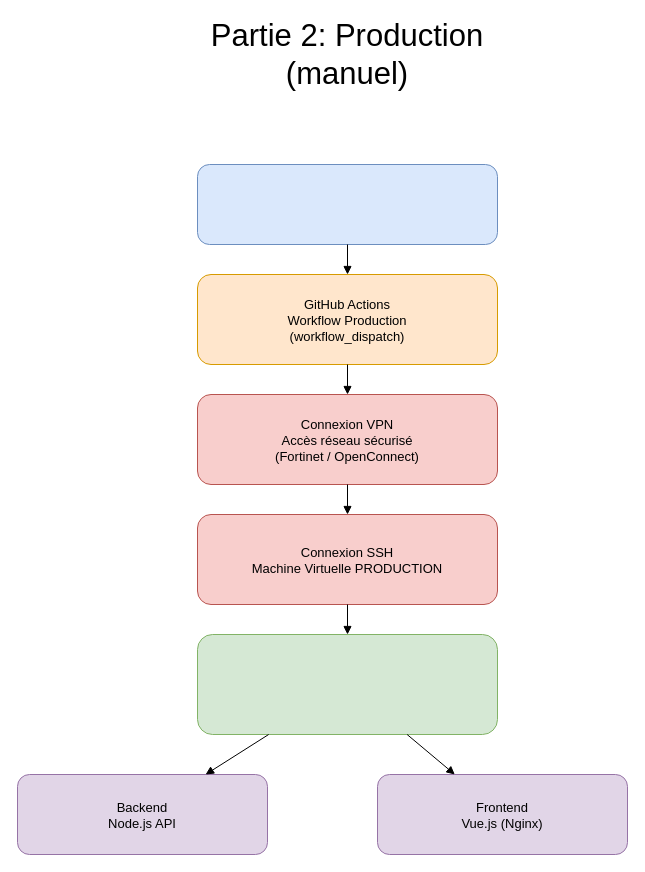
Some shapes in this 645 by 872 pixel diagram are drawn without their labels. Each missing label, with the box of its shape:
Déploiement PRODUCTION Docker & docker-compose Recréation des conteneurs: (196, 634, 498, 734)
Responsable / Développeur Déclenchement manuel Workflow Production: (196, 164, 498, 244)
